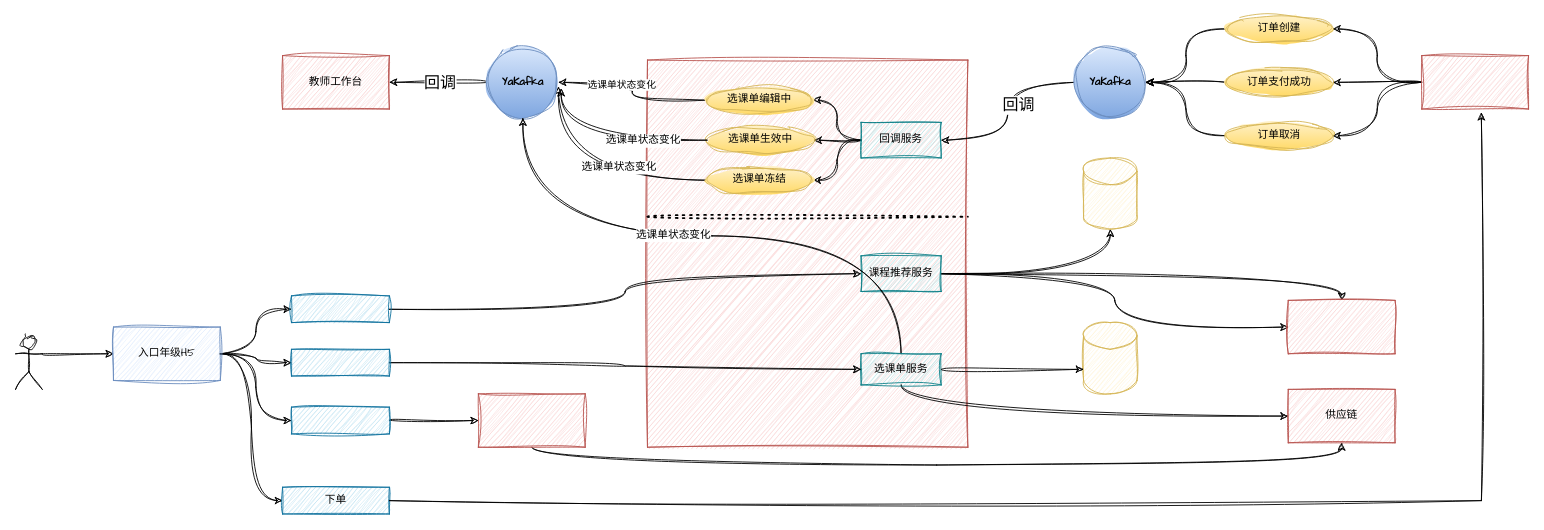
The diagram is 1544 pixels wide and 530 high, and some of its shapes have lost their labels. Each missing label, with the centre of its shape:
MySQL: (x=1110, y=358)
Redis: (x=1110, y=193)
交易: (x=1475, y=82)
保存选课单: (x=340, y=362)
其它信息查询: (x=340, y=420)
查询课程: (x=340, y=309)
筛选服务: (x=1341, y=326)
自研续报中心: (x=531, y=420)
